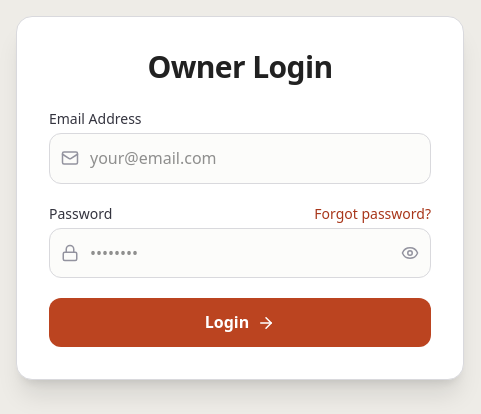
Test: the reset form (VM-14) › asks for a valid email before sending
Step 1. Click the button "Forgot password?" → {"x": 373, "y": 214}, box top-left (314, 204), bottom-right (431, 224)
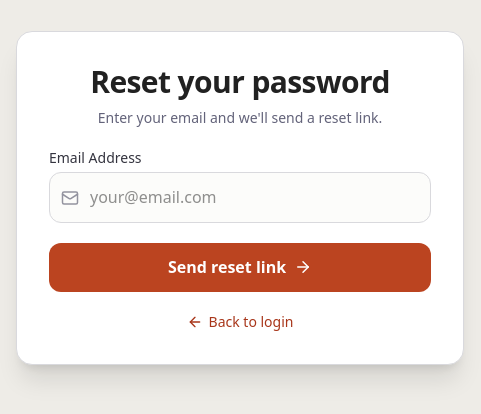
Step 2. Clear the field labelled "Email Address" → {"x": 240, "y": 198}, box top-left (49, 172), bottom-right (431, 223)
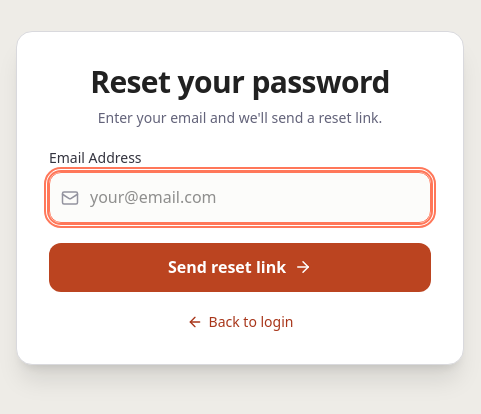
Step 3. Click the button "Send reset link" → {"x": 240, "y": 267}, box top-left (49, 243), bottom-right (431, 292)
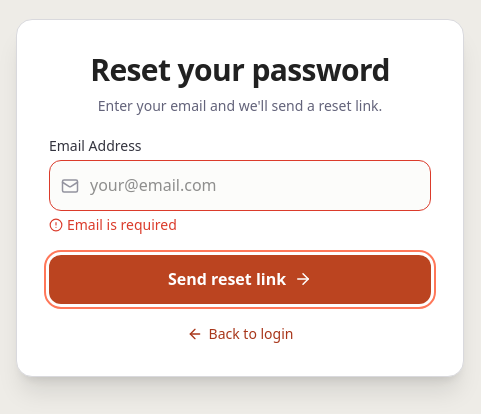
Expected: the text "Email is required" is shown, top-left (49, 215), bottom-right (177, 234)
